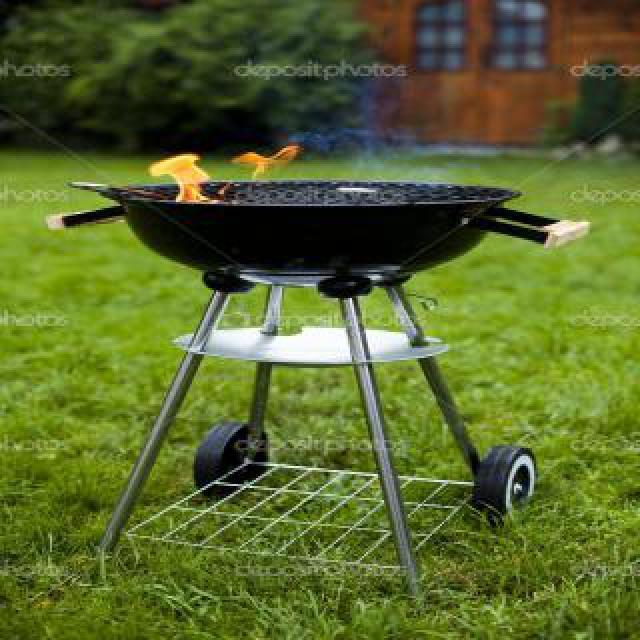smoke: (310, 124, 464, 206)
zfire: (142, 140, 288, 206)
